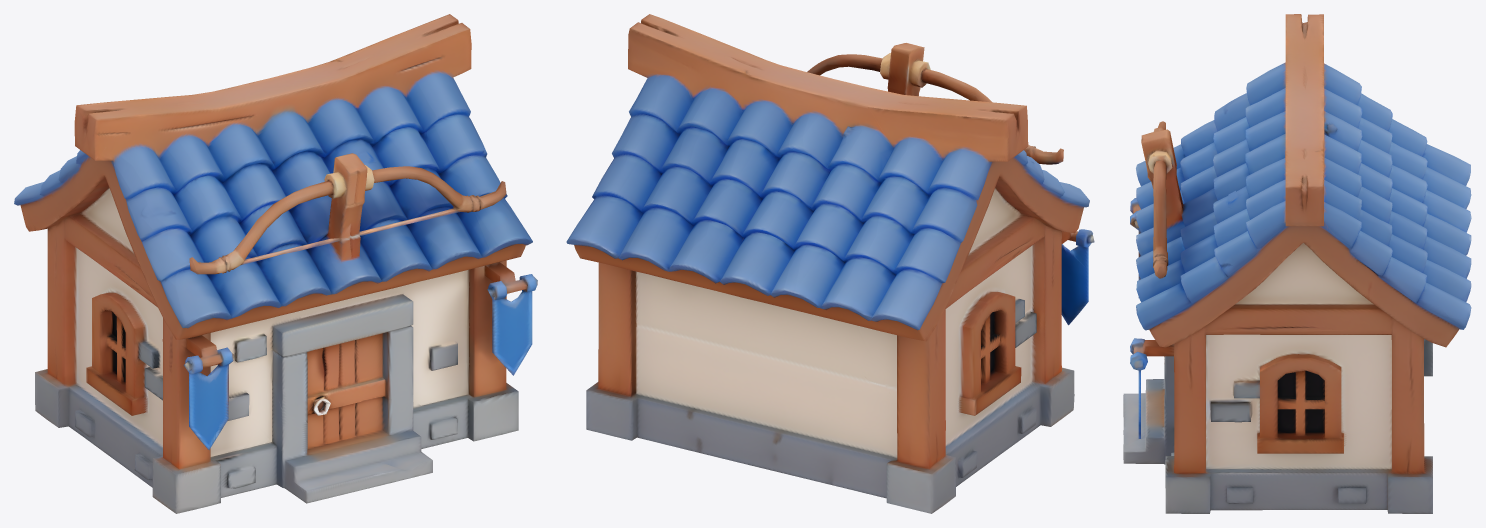
The model's file is base_basic_shaded.fbx.
3 views of the same model, side by side, from view 1: azimuth 30°, elevation 25°; view 2: azimuth 150°, elevation 25°; view 3: azimuth 270°, elevation 25° (orthographic). The views are drawn at different scales.
Parts seen in each view (by area): view 1: model; view 2: model; view 3: model.
Part boxes in pixels (<box>): model: <box>14,14,537,513</box>; model: <box>566,14,1094,513</box>; model: <box>1123,14,1471,513</box>.
Size of the model in its own units: 185 by 165 by 156.
